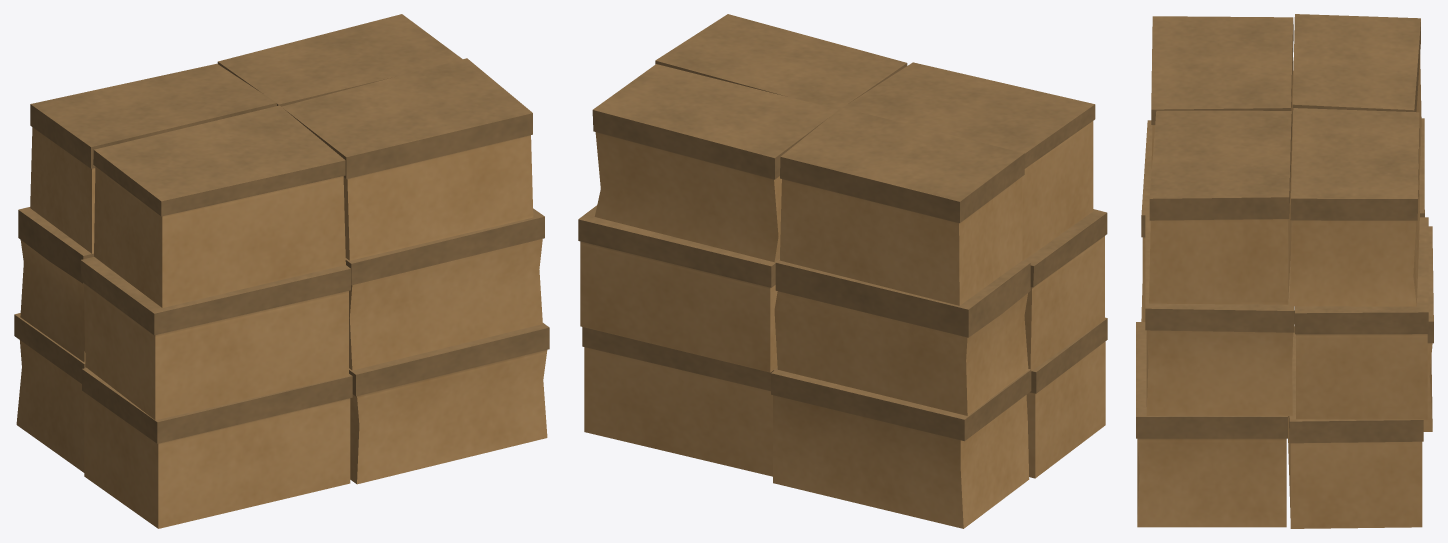
Rendered from PalletStack_payload_boxes.fbx.
The picture shows the model from 3 angles, left to right: view 1: azimuth 30°, elevation 25°; view 2: azimuth 150°, elevation 25°; view 3: azimuth 270°, elevation 25°; orthographic projection.
Visible parts, largest first — view 1: Pallet_LOD0; view 2: Pallet_LOD0; view 3: Pallet_LOD0.
Boxes of the visible parts, box(x1,y1,x2,y2) form: Pallet_LOD0: box(14, 14, 549, 528); Pallet_LOD0: box(578, 14, 1107, 528); Pallet_LOD0: box(1136, 14, 1433, 528).
Size of what is drawn, in the model's own units: 116 by 91.55 by 75.43.
